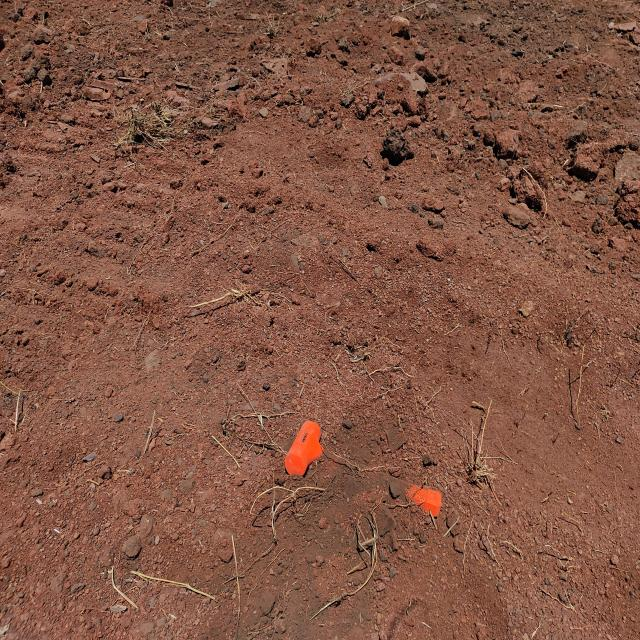Orange_hammer: (284, 419, 323, 478)
